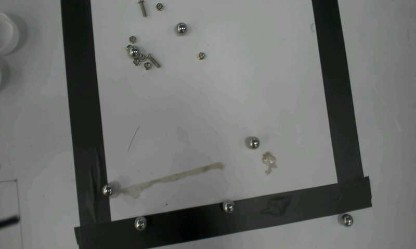ironball: (133, 216, 146, 230), (222, 199, 234, 213), (341, 213, 353, 226), (248, 136, 259, 149), (101, 184, 112, 196), (176, 21, 186, 33), (128, 47, 138, 56)
